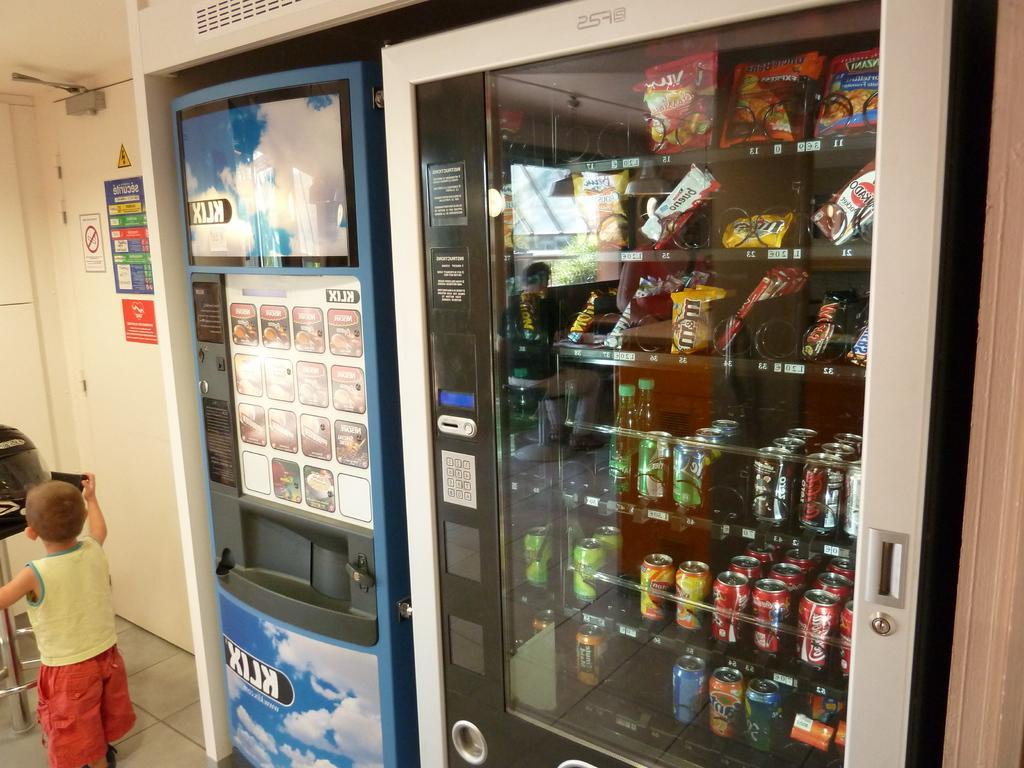door: (52, 88, 170, 644)
